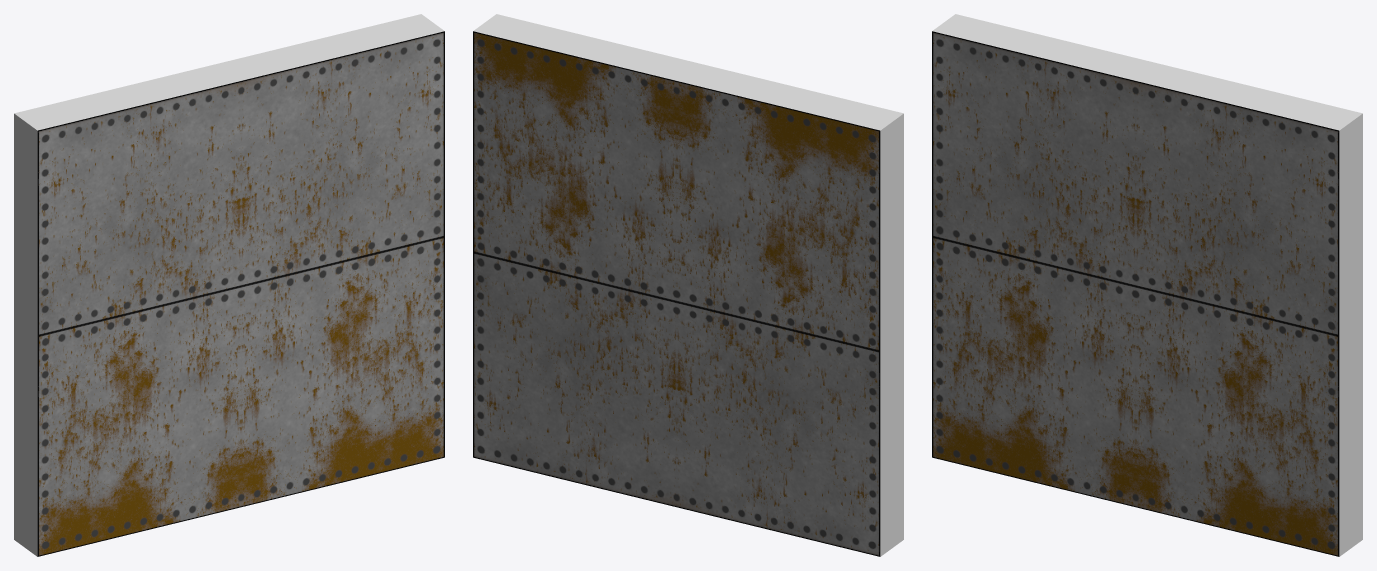
Rendered from Walls2window.fbx.
The picture shows the model from 3 angles, left to right: view 1: azimuth 30°, elevation 25°; view 2: azimuth 150°, elevation 25°; view 3: azimuth 330°, elevation 25°; orthographic projection.
Visible parts, largest first — view 1: WallStraitWindow; view 2: WallStraitWindow; view 3: WallStraitWindow.
Part boxes in pixels (x1=…): WallStraitWindow: x1=14, y1=14, x2=444, y2=556; WallStraitWindow: x1=473, y1=14, x2=903, y2=556; WallStraitWindow: x1=932, y1=14, x2=1362, y2=556.
Bounding box in the file's own units: 200 × 200 × 20.
2 materials, 1 textured.
